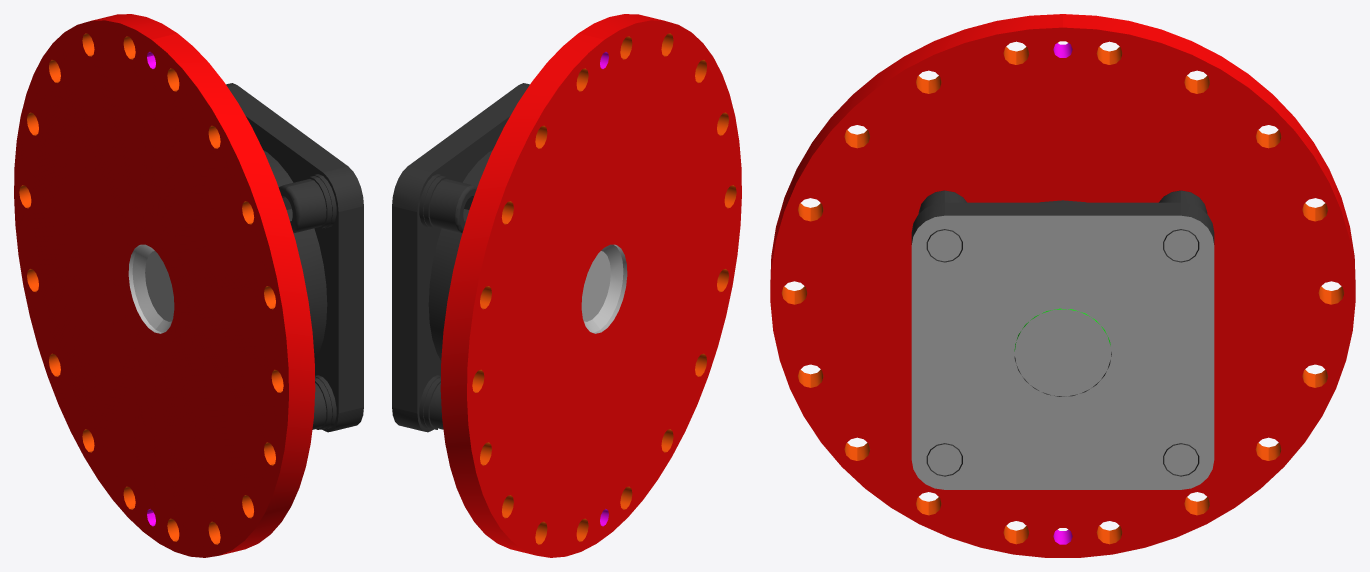
The model's file is Idler_Faceplate_P3.dae.
The picture shows the model from 3 angles, left to right: view 1: azimuth 30°, elevation 25°; view 2: azimuth 150°, elevation 25°; view 3: azimuth 270°, elevation 25°; orthographic projection. The views are drawn at different scales.
Visible parts, largest first — view 1: Node_0000018E1A3D43C0 (×4); view 2: Node_0000018E1A3D43C0 (×4); view 3: Node_0000018E1A3D43C0 (×4).
Part boxes in pixels (x1,y1,x2,y2): Node_0000018E1A3D43C0 (×4): [14, 14, 363, 557]; Node_0000018E1A3D43C0 (×4): [392, 14, 741, 557]; Node_0000018E1A3D43C0 (×4): [770, 14, 1355, 557].
Size of the model in its own units: 0.178 by 0.5995 by 0.5998.
